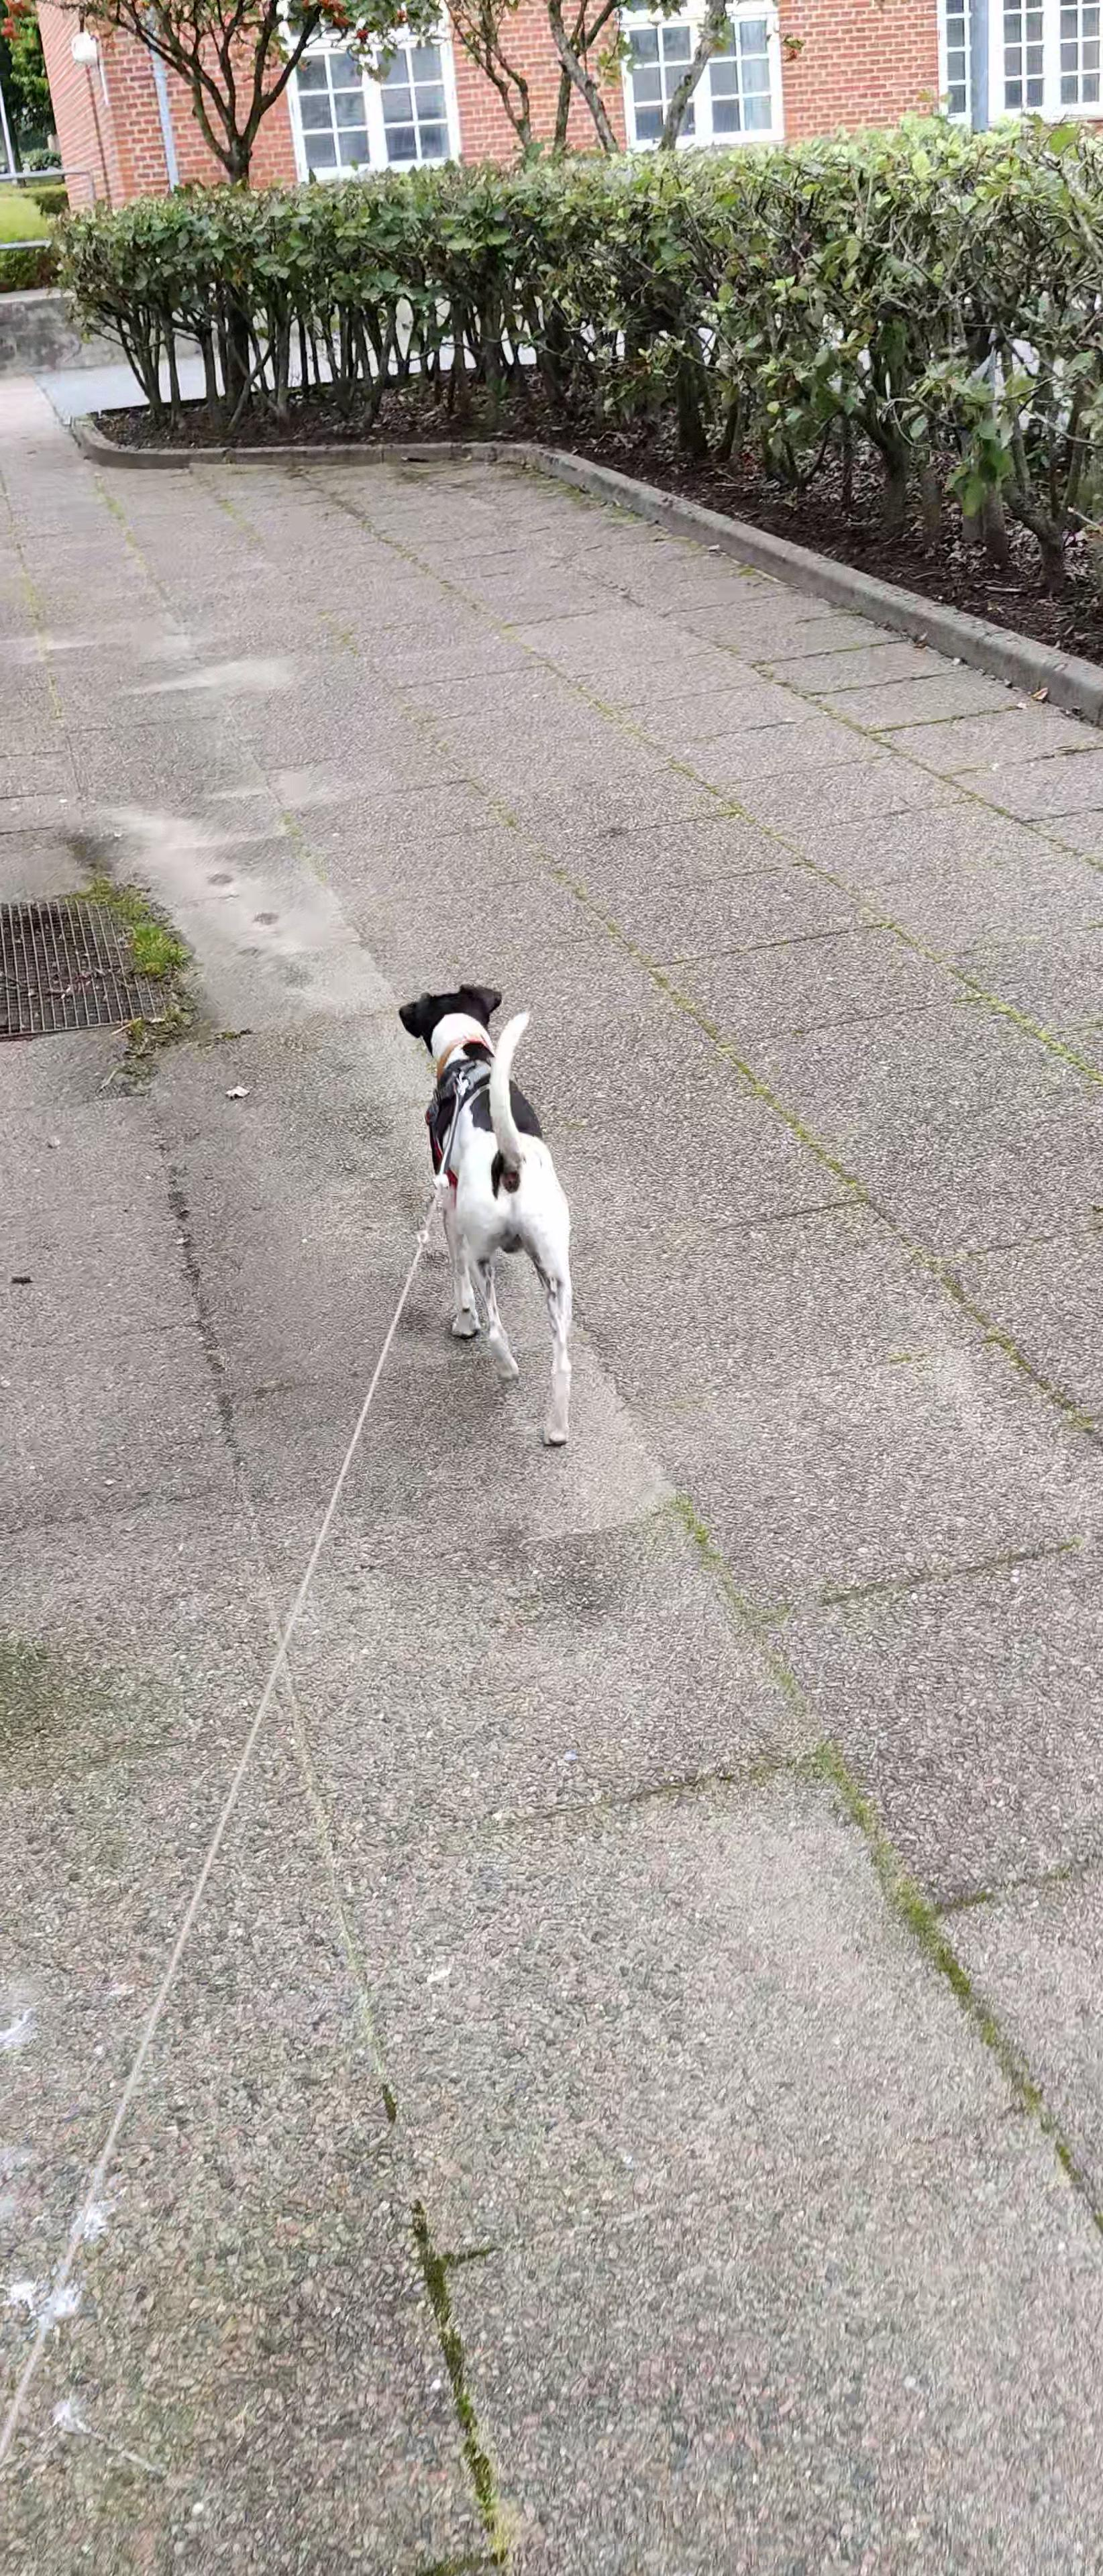Dog: (365, 951, 605, 1460)
